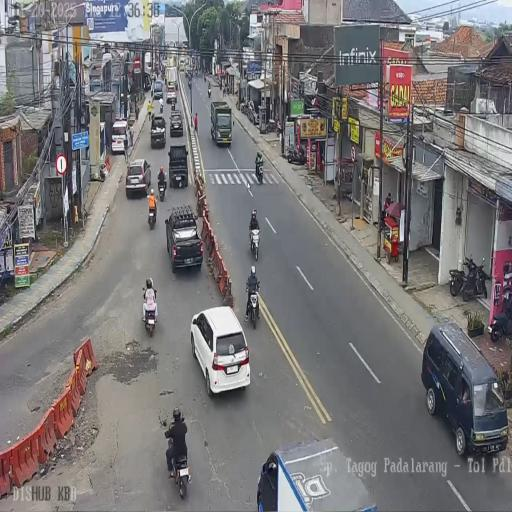3: (211, 99, 233, 147), (167, 54, 177, 74), (144, 51, 152, 73), (179, 57, 186, 71), (161, 58, 167, 72)
car: (420, 324, 506, 456), (190, 306, 251, 396), (165, 206, 204, 273), (125, 157, 151, 198), (168, 144, 189, 188), (111, 118, 131, 156), (150, 115, 166, 148), (169, 110, 184, 137), (246, 100, 259, 125), (152, 80, 163, 101), (186, 68, 192, 78)
truck: (166, 432, 191, 500), (460, 255, 489, 301), (489, 291, 511, 341), (245, 283, 261, 329), (143, 302, 157, 338), (449, 267, 465, 297), (286, 144, 306, 166), (250, 228, 260, 261), (148, 197, 158, 228), (157, 174, 167, 202), (254, 158, 264, 184), (240, 98, 249, 116), (276, 120, 282, 138), (170, 97, 176, 111), (159, 98, 164, 113), (188, 76, 192, 88), (208, 85, 211, 98), (195, 67, 198, 76), (204, 74, 206, 83)
